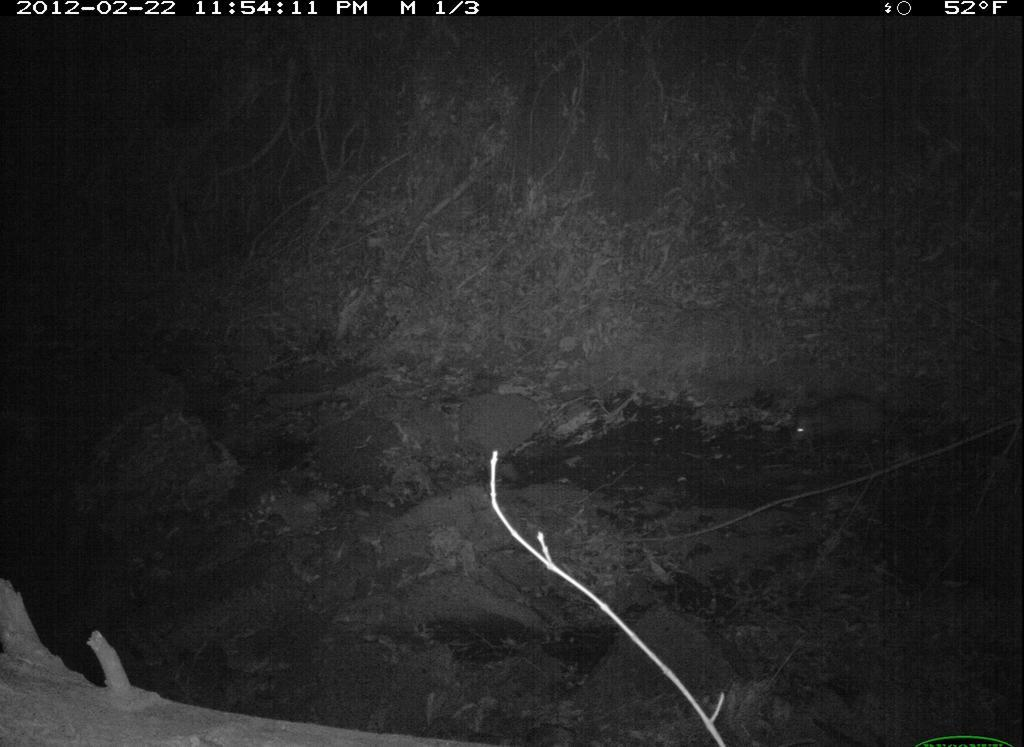opossum: (771, 385, 965, 478)
